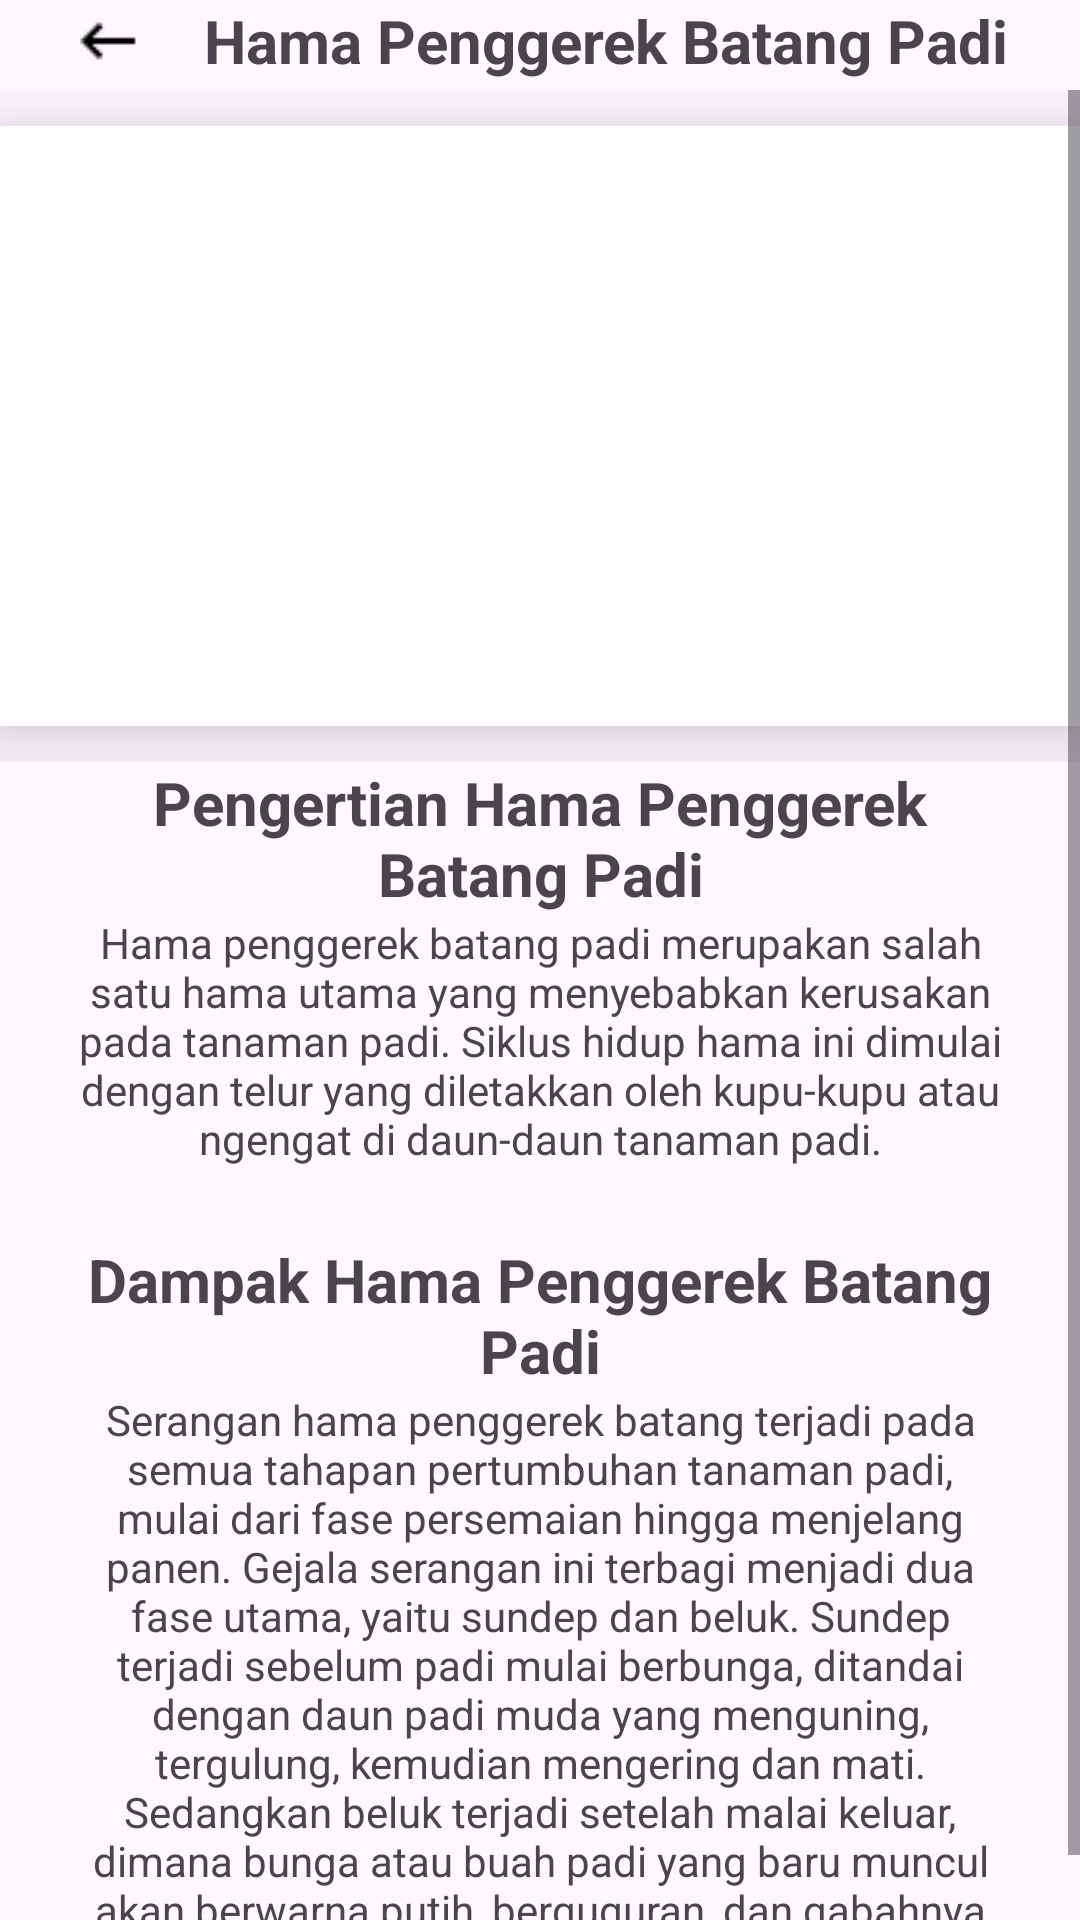

Where icons sit on this 1080x1920 app screen, as bbox=(x1, y1, x2, y2):
keyboard backspace: bbox=(80, 22, 136, 60)
